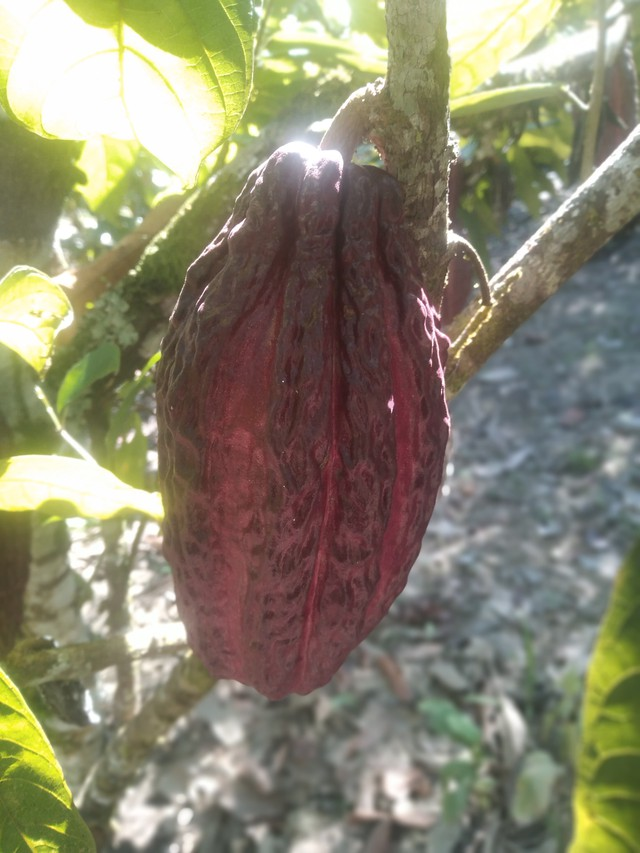Health: (127, 123, 462, 708)
